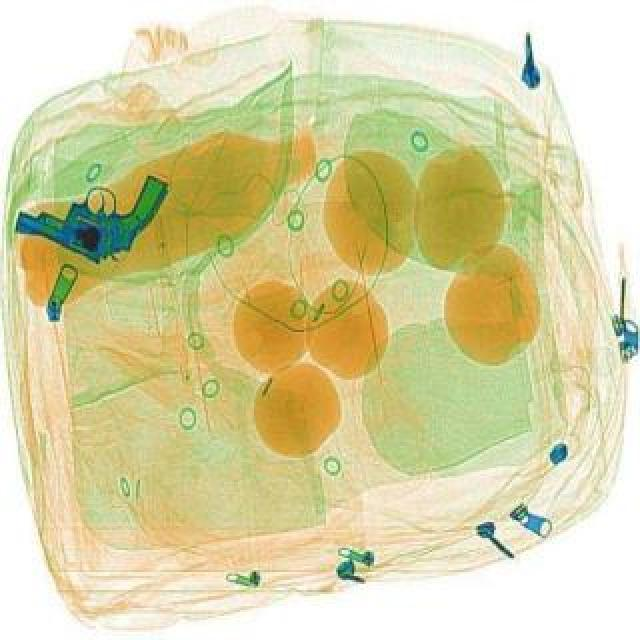gun: (8, 174, 176, 274)
